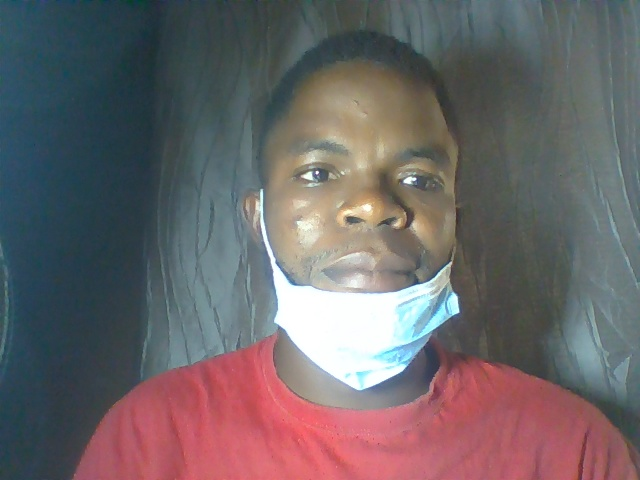MaskOff: (229, 30, 481, 394)
